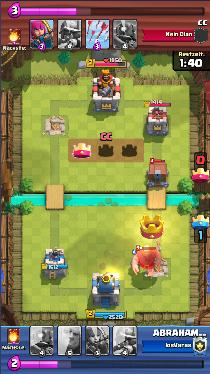ally_goblin_cage: (146, 161, 170, 188)
ally_knight: (131, 251, 141, 270)
enemy_giant: (132, 246, 162, 278)
